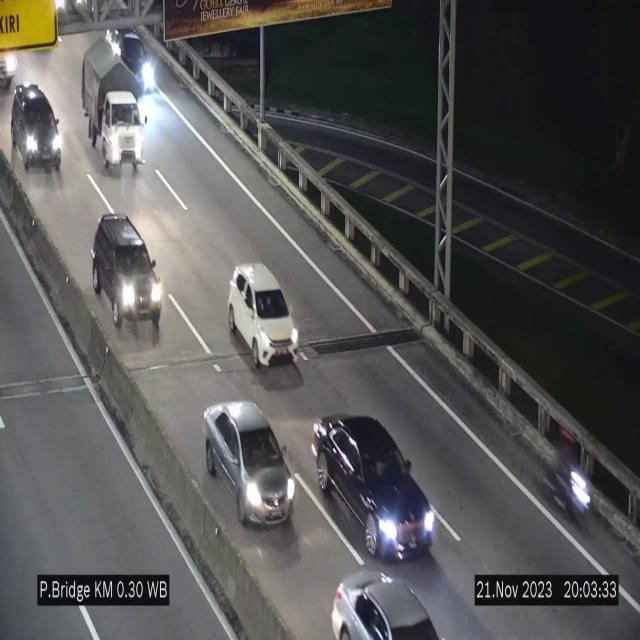Car: (311, 414, 435, 557), (201, 400, 295, 534), (324, 536, 442, 640), (93, 209, 165, 330), (228, 263, 298, 367), (11, 82, 63, 178)
Motorcycle: (542, 423, 591, 531)
Truck: (79, 36, 148, 178)
